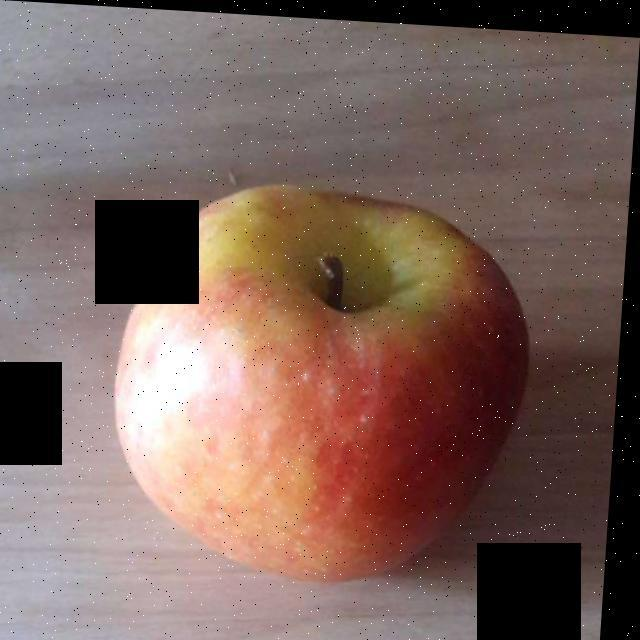apple: (127, 187, 530, 574)
